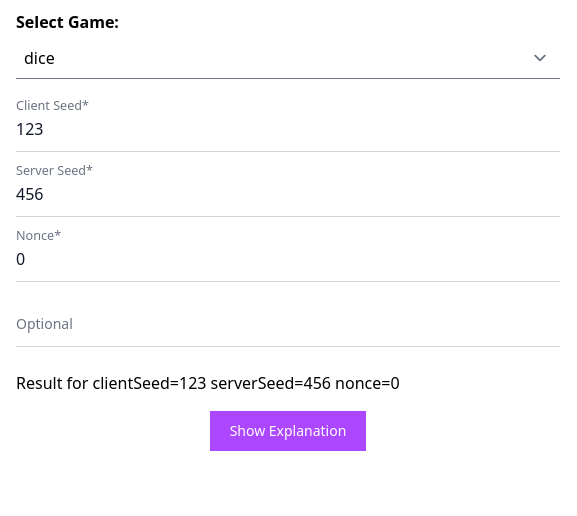
VerifierForm Component › optional fields are passed to result and explanation
Replace the text in the field labelled "Client Seed*" with "aaa1" at (288, 130), box [16, 107, 560, 152]
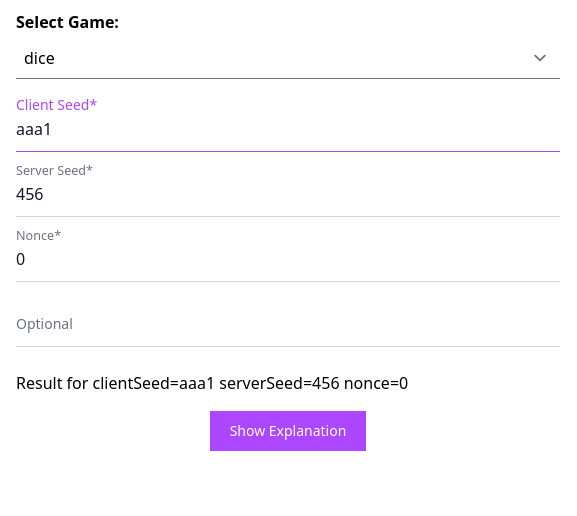
Replace the text in the field labelled "Server Seed*" with "bbb2" at (288, 194), box [16, 172, 560, 217]
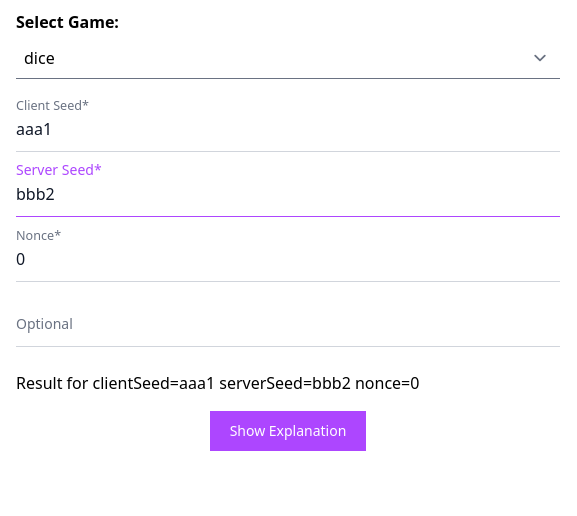
Replace the text in the number field labelled "Nonce*" with "1234" at (288, 260), box [16, 237, 560, 282]
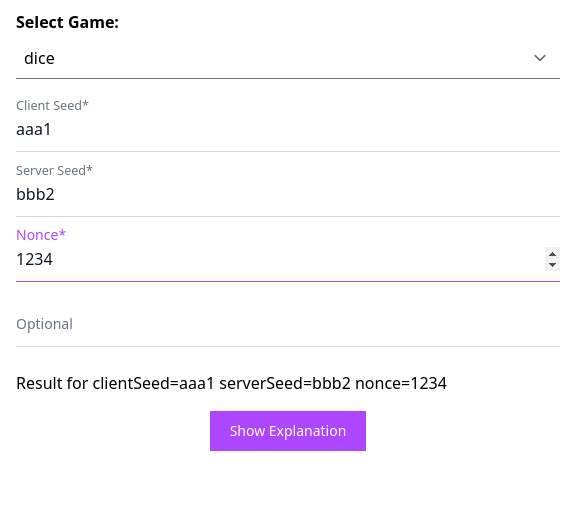
Type "yes1" into the field labelled "Optional" at (288, 324), box [16, 302, 560, 347]
Wait 350 ms
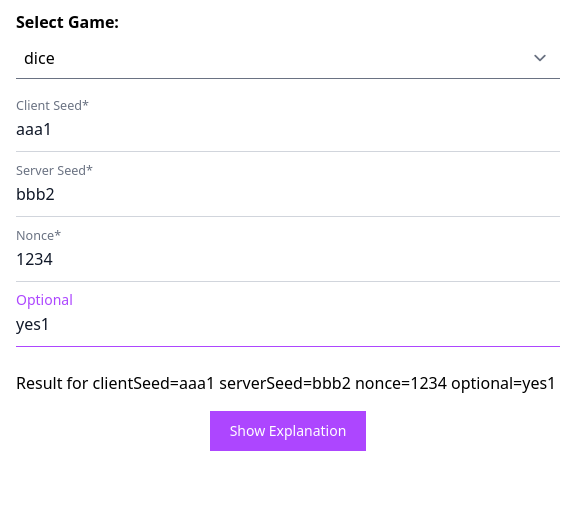
Expected: the text "Result for clientSeed=aaa1 serverSeed=bbb2 nonce=1234 optional=yes1" is shown, [16, 371, 560, 395]
Click the button "Show Explanation" at (288, 431), box [210, 411, 366, 451]
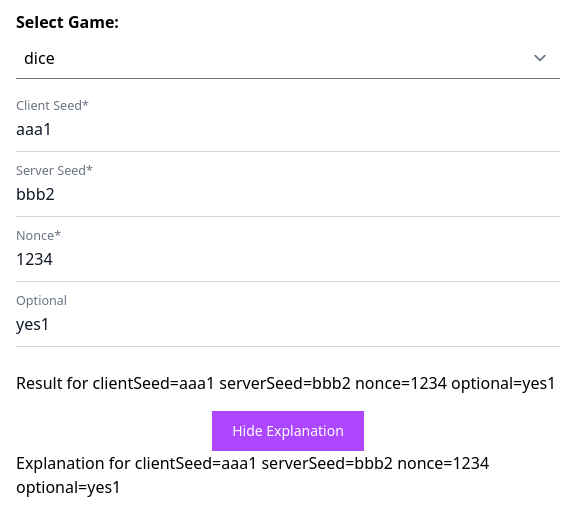
Expected: the button "Show Explanation" reads "Hide Explanation", [212, 411, 364, 451]
Expected: the text "Explanation for clientSeed=aaa1 serverSeed=bbb2 nonce=1234 optional=yes1" is shown, [16, 451, 560, 499]
